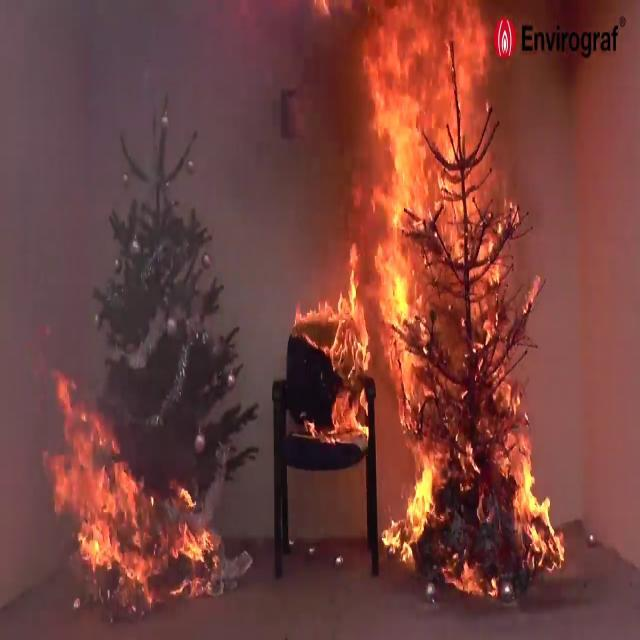Fire: (300, 4, 548, 466), (36, 388, 208, 604), (292, 234, 382, 448), (512, 451, 570, 568), (379, 462, 441, 558)
